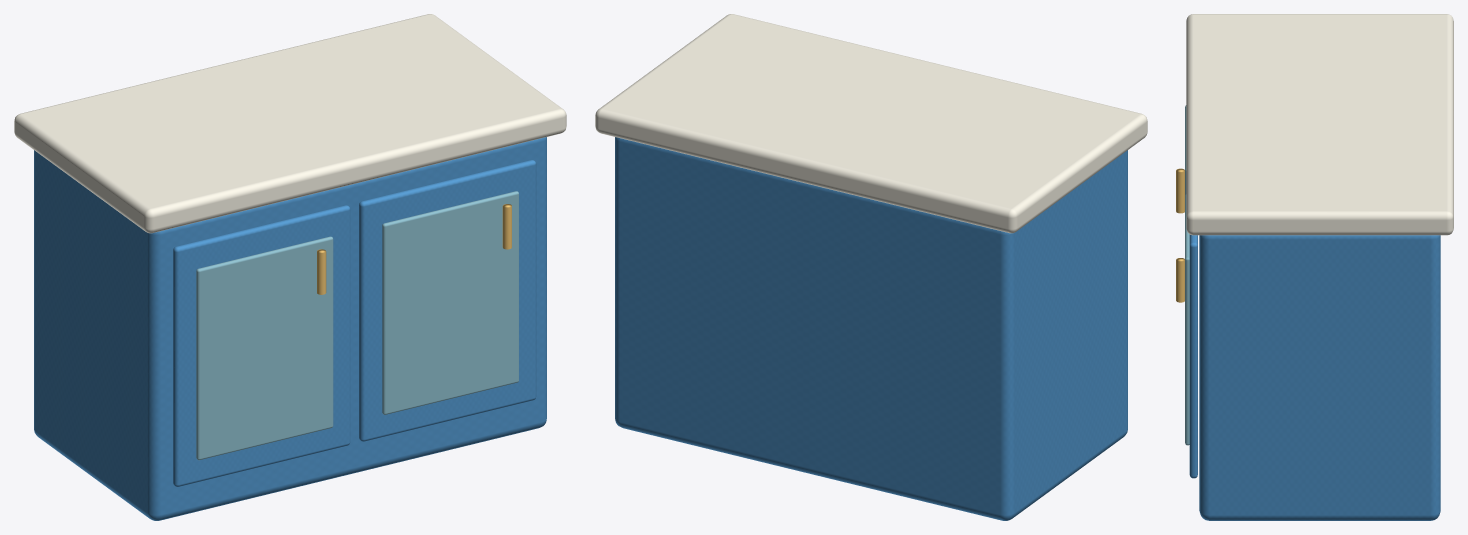
File: Kitchen_Counter.glb
3 views of the same model, side by side, from view 1: azimuth 30°, elevation 25°; view 2: azimuth 150°, elevation 25°; view 3: azimuth 270°, elevation 25° (orthographic).
Parts seen in each view (by area): view 1: Kitchen_Counter; view 2: Kitchen_Counter; view 3: Kitchen_Counter.
Part boxes in pixels (x1,y1,x2,y2): Kitchen_Counter: (14, 14, 566, 520); Kitchen_Counter: (595, 14, 1147, 520); Kitchen_Counter: (1176, 14, 1453, 520).
Size of the model in its own units: 1.27 by 0.925 by 0.737.
4 materials, 1 textured.
